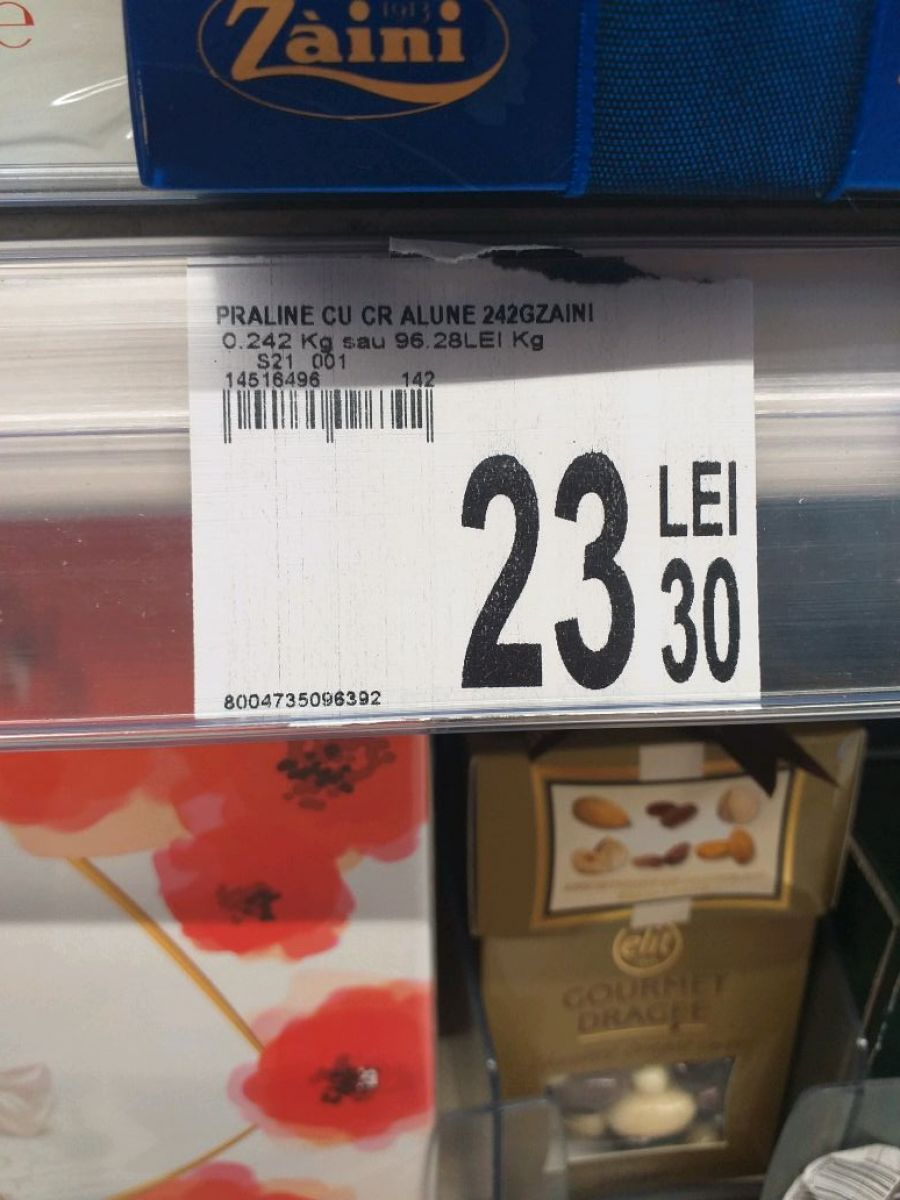price_bani: (643, 547, 748, 693)
price_lei: (447, 437, 647, 697)
price_tag: (165, 247, 802, 749)
product_id: (220, 682, 389, 720)
product_name: (192, 292, 613, 333)
